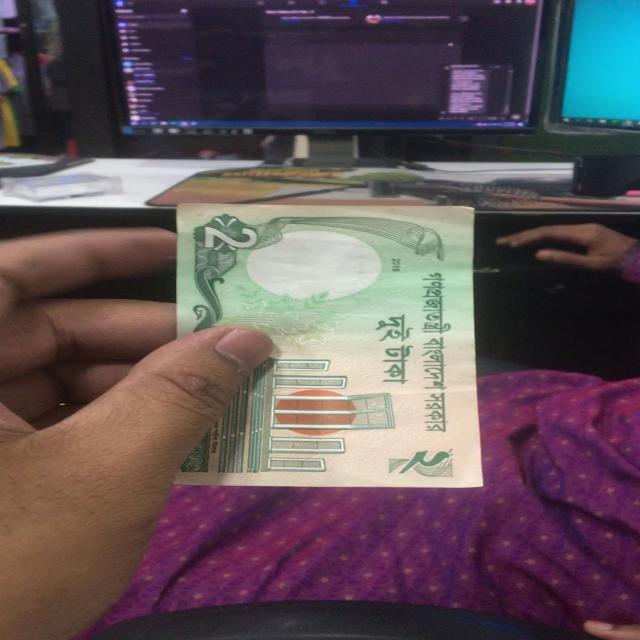Taka: (160, 199, 496, 496)
